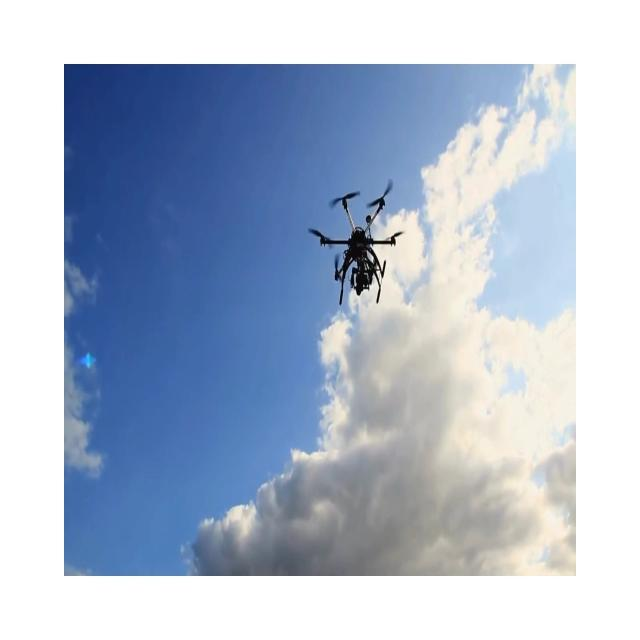drone: (307, 178, 404, 306)
